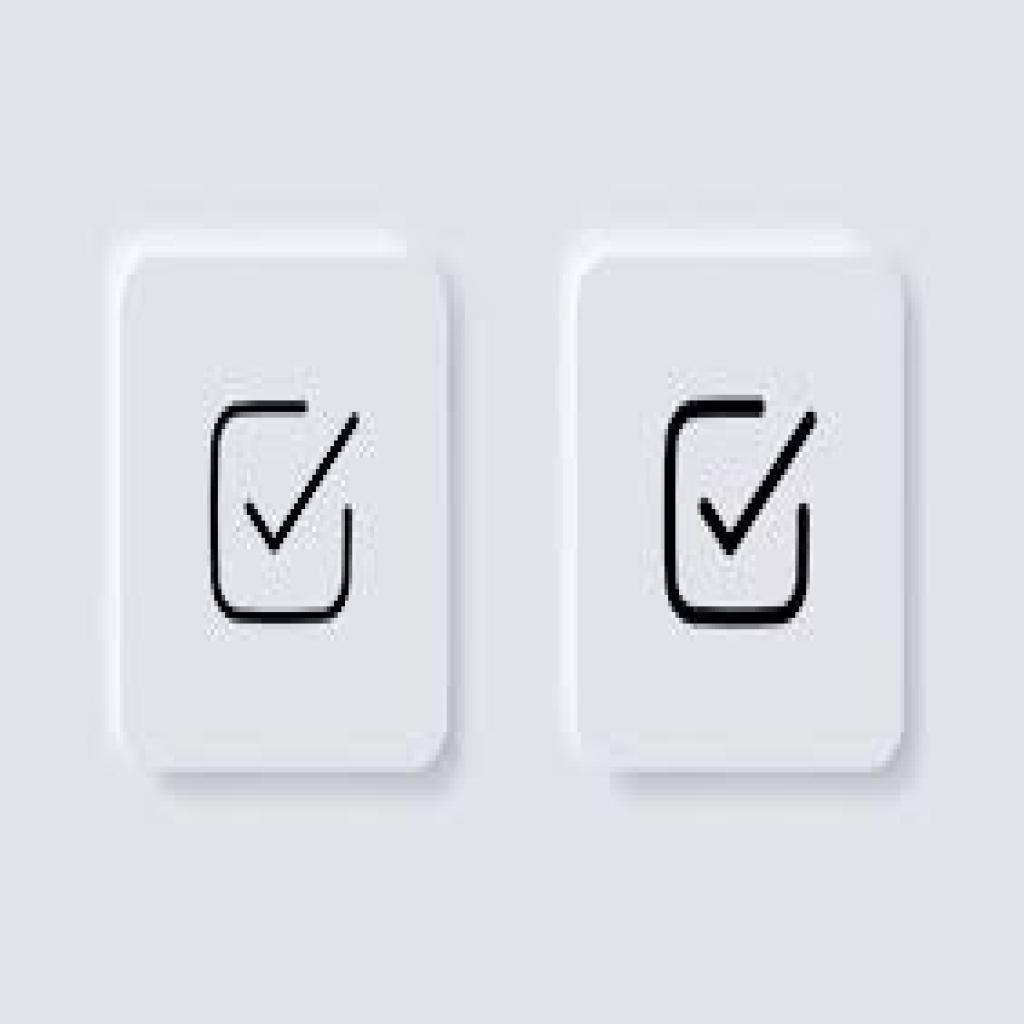checkbox: (213, 405, 349, 619), (670, 404, 803, 621)
